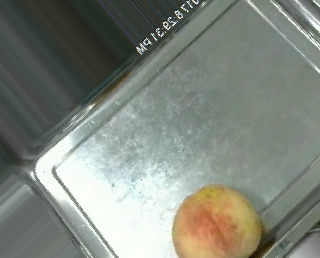Peach: (171, 183, 261, 257)
